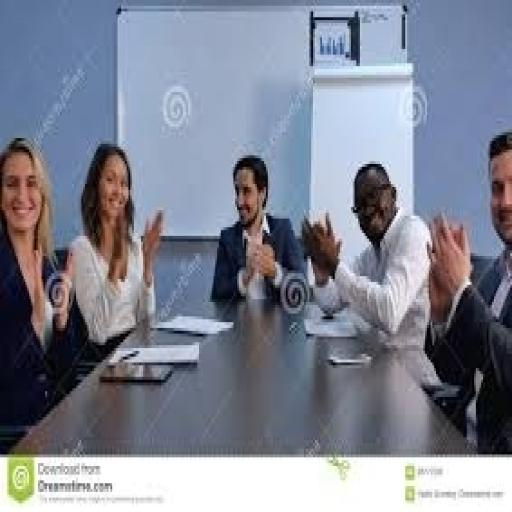clapping: (422, 130, 510, 454), (300, 158, 432, 351), (0, 135, 74, 449), (63, 141, 165, 368), (208, 152, 308, 308)
